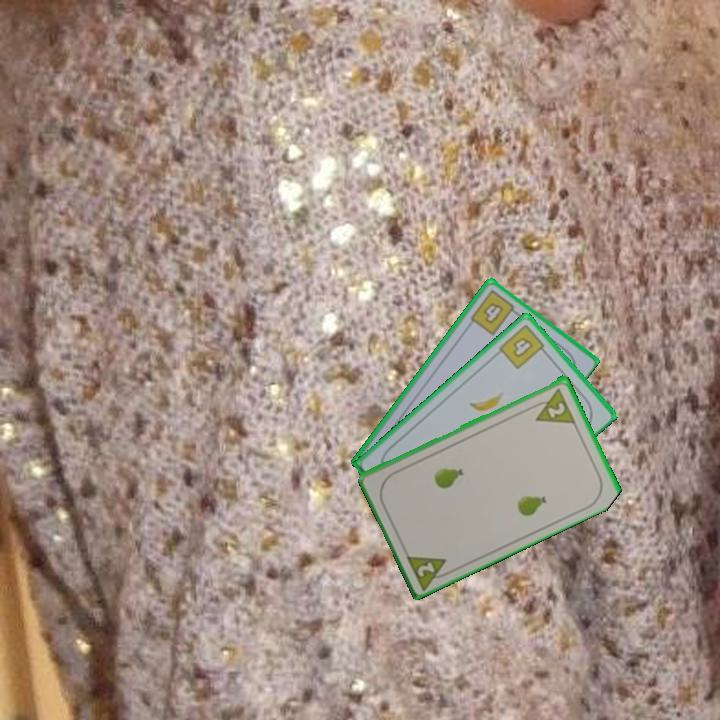2p: (402, 549, 456, 591), (527, 384, 578, 426)
4b: (466, 286, 522, 338), (495, 321, 551, 372)
